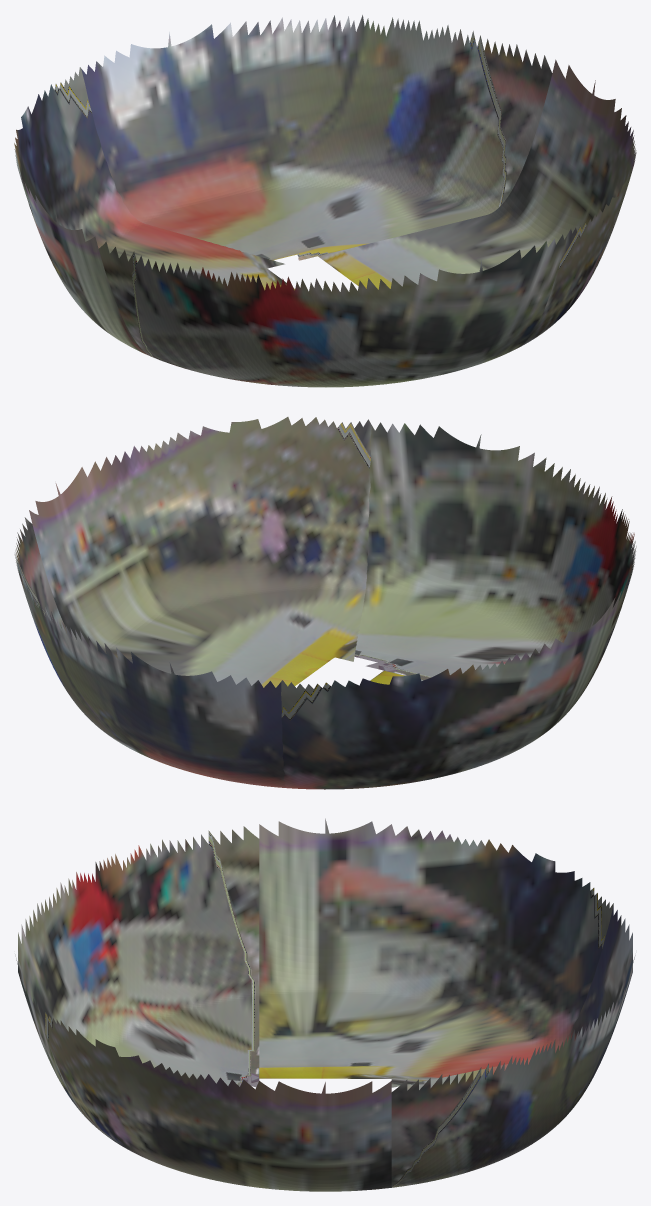
The model's file is bowl_only.glb.
3 renders of one model, top to bottom at view 1: azimuth 30°, elevation 25°; view 2: azimuth 150°, elevation 25°; view 3: azimuth 270°, elevation 25°, orthographic.
Parts seen in each view (by area): view 1: rear_left, rear, front_right, left, front, rear_right, front_left, right; view 2: front_left, front, rear_right, left, rear, front_right, rear_left, right; view 3: rear_right, front_right, right, front_left, rear_left, left, rear, front.
Boxes of the visible parts, <box> form: rear_left: <box>281,15,552,260</box>; rear: <box>81,20,297,260</box>; front_right: <box>98,241,369,387</box>; left: <box>318,59,621,289</box>; front: <box>365,234,567,385</box>; rear_right: <box>14,67,284,285</box>; front_left: <box>519,115,636,347</box>; right: <box>29,189,295,356</box>; front_left: <box>99,417,371,661</box>; front: <box>354,422,569,662</box>; rear_right: <box>281,639,555,789</box>; left: <box>29,461,334,687</box>; rear: <box>82,634,285,787</box>; front_right: <box>366,469,636,687</box>; rear_left: <box>14,517,130,748</box>; right: <box>370,591,621,758</box>; rear_right: <box>391,824,613,1087</box>; front_right: <box>37,826,259,1087</box>; right: <box>259,818,391,1078</box>; front_left: <box>37,1002,256,1187</box>; rear_left: <box>391,1002,613,1187</box>; left: <box>256,1081,391,1191</box>; rear: <box>407,906,635,1109</box>; front: <box>15,906,240,1109</box>.
Bounding box in the file's own units: 16 × 4 × 16.
8 materials, 8 textured.
